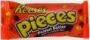grozi_31: (0, 0, 89, 40)
